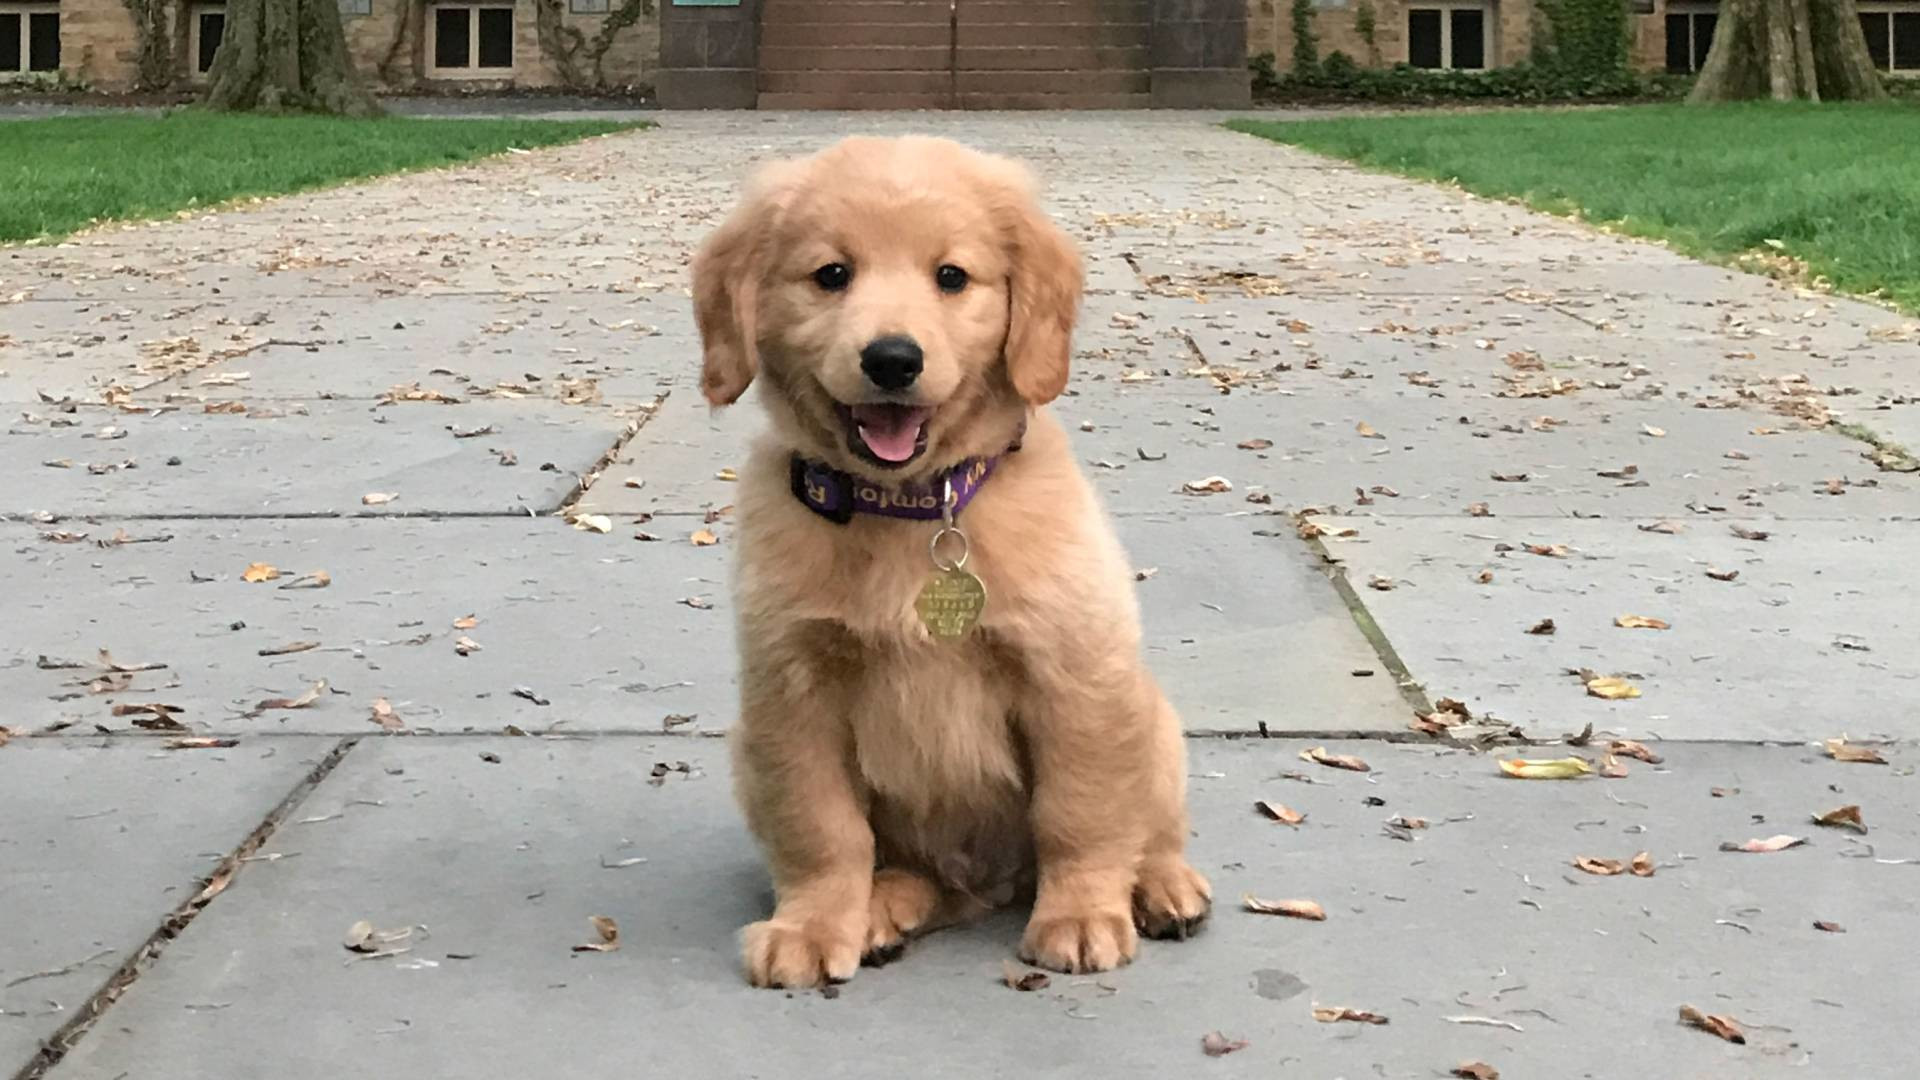dog: (688, 128, 1215, 993)
